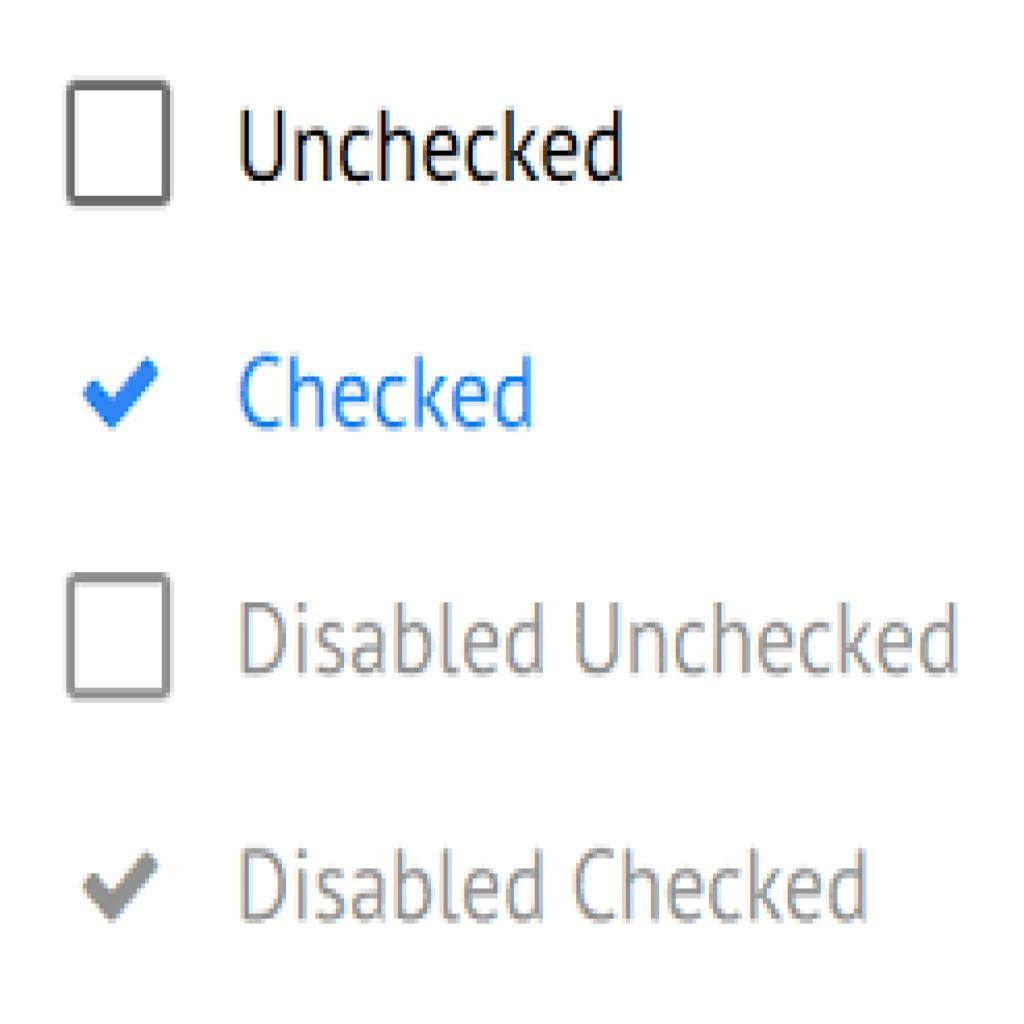checkbox: (63, 82, 173, 206), (69, 577, 172, 700)
icon: (73, 346, 161, 437), (82, 841, 163, 929)
